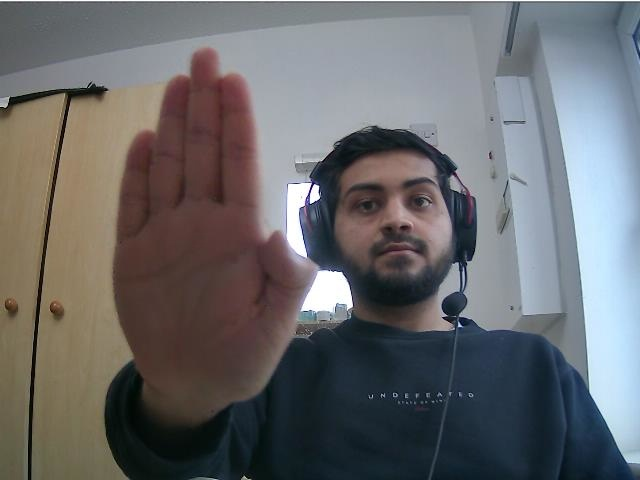up: (107, 45, 321, 391)
